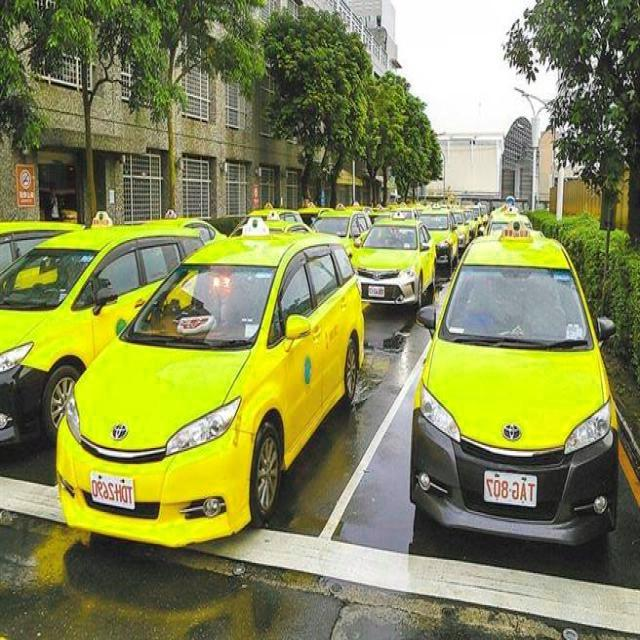taxi: (51, 224, 366, 568), (392, 214, 621, 556), (1, 210, 203, 429), (353, 211, 437, 326)
